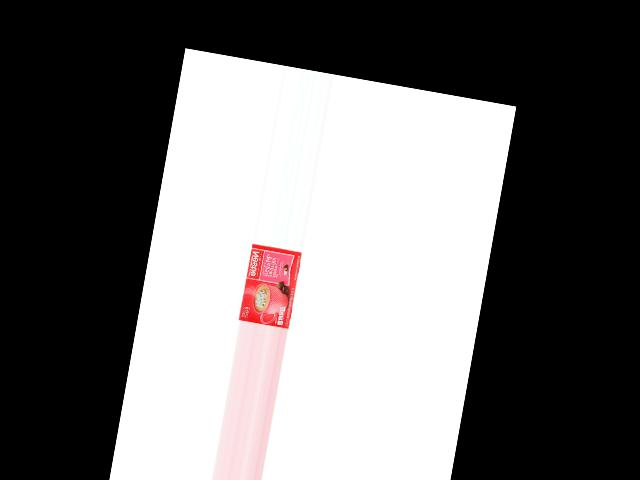chocolate: (240, 245, 304, 330)
